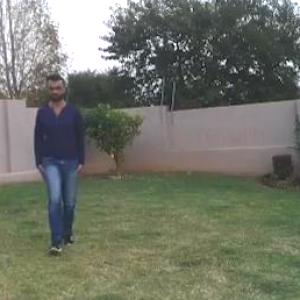follow: (34, 79, 87, 248)
